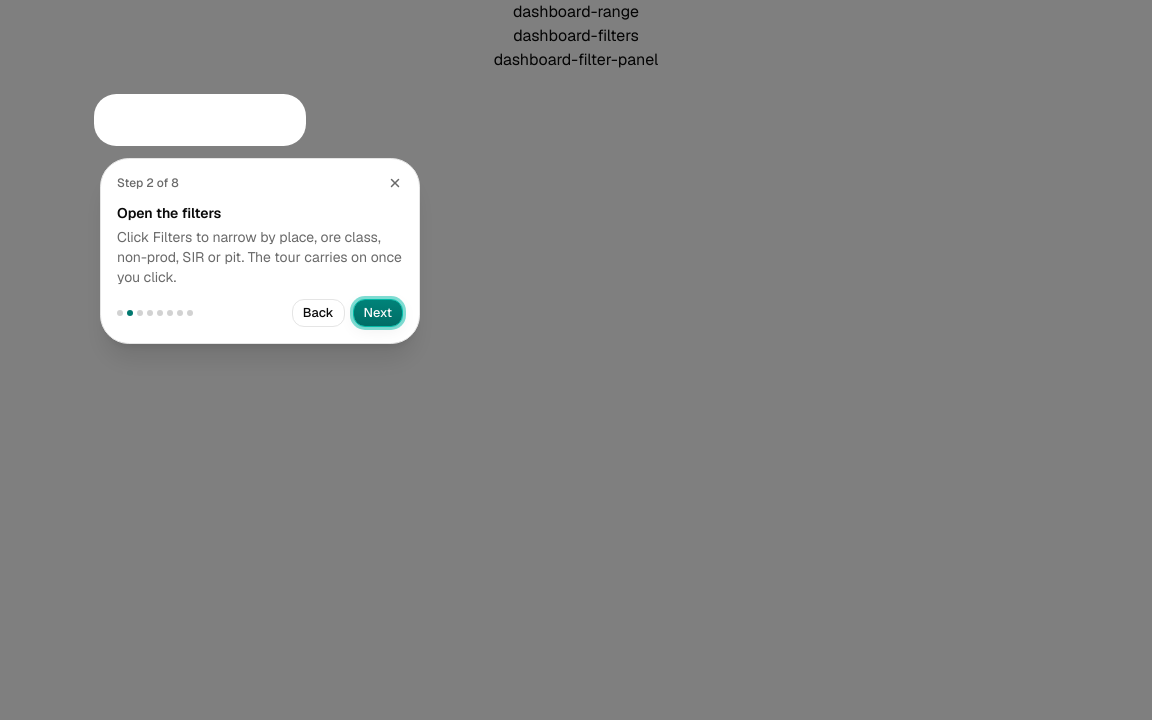
Test: the tour runner › moves on by itself when the highlighted element is clicked
expect the heading "Open the filters" is shown: met, box [117,204,221,222]
Click the button "dashboard-filters" at (576, 36), box [0,24,1151,48]
Wait 1000 ms
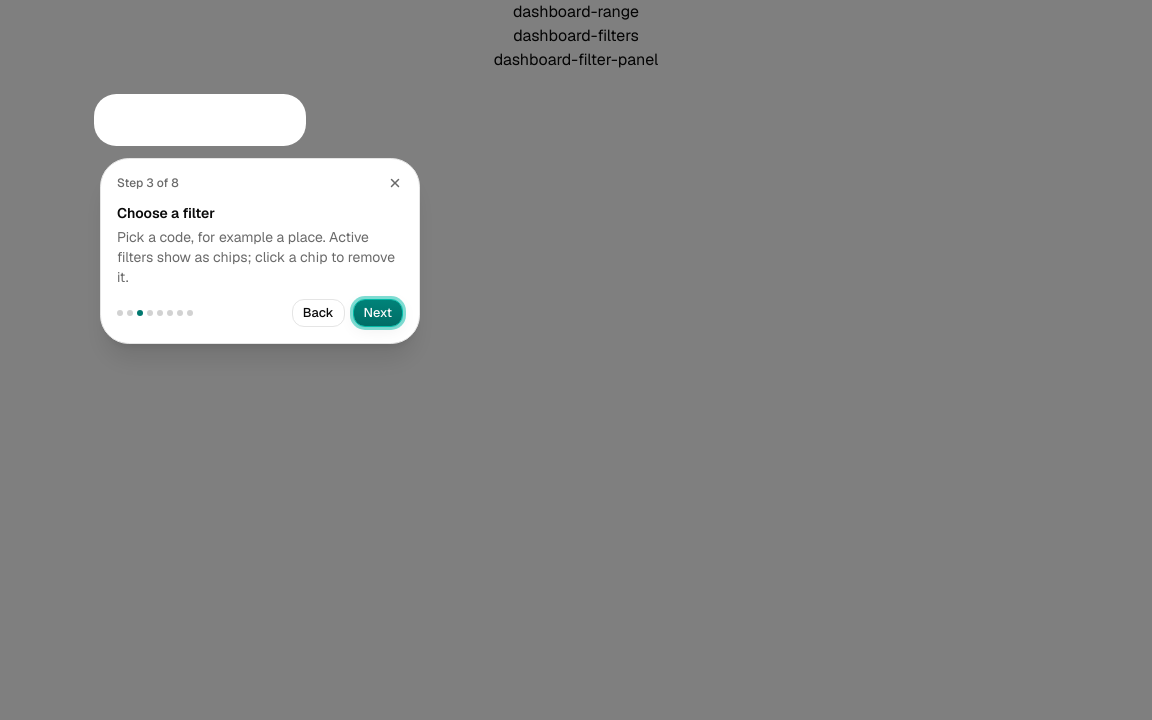
expect the heading "Choose a filter" is shown: met, box [117,204,215,222]
